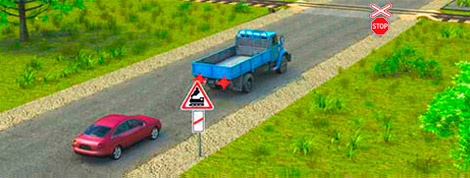1.2: (185, 79, 213, 109)
1.4.3: (185, 112, 208, 133)
